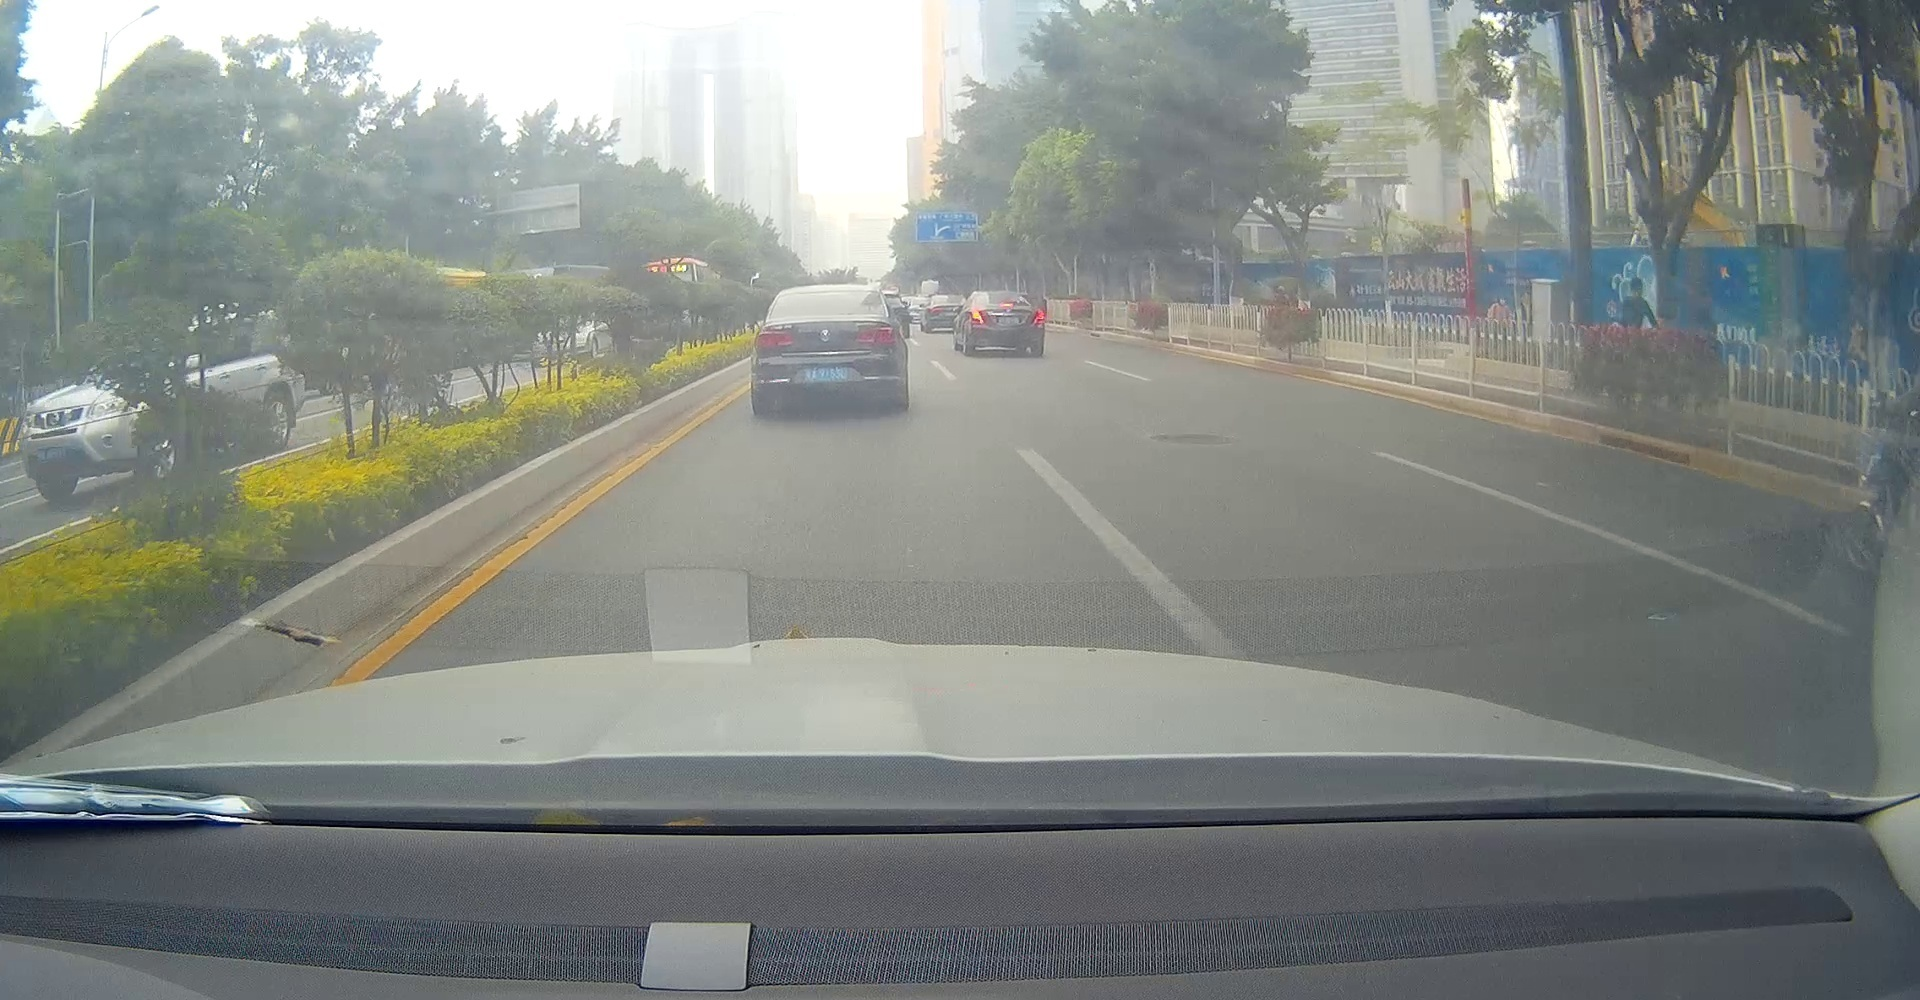L_light: (754, 331, 794, 348), (969, 307, 985, 325)
R_light: (855, 327, 895, 345), (1031, 308, 1044, 327)
T_light: (811, 292, 839, 296), (1001, 303, 1015, 307)
day-brake: (965, 291, 1045, 357)
day-no: (753, 286, 898, 414)
